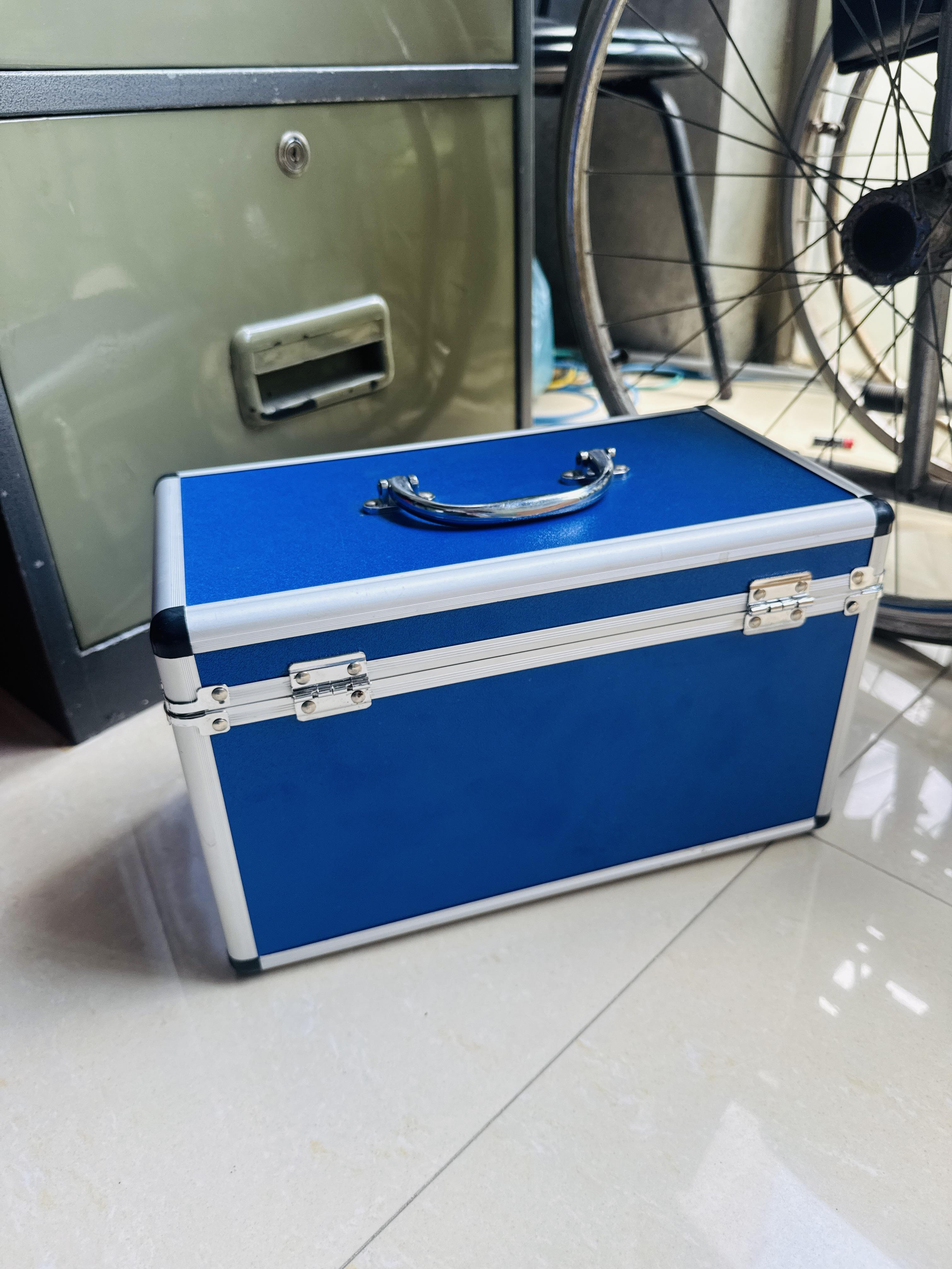FirstAidBox: (113, 377, 913, 994)
